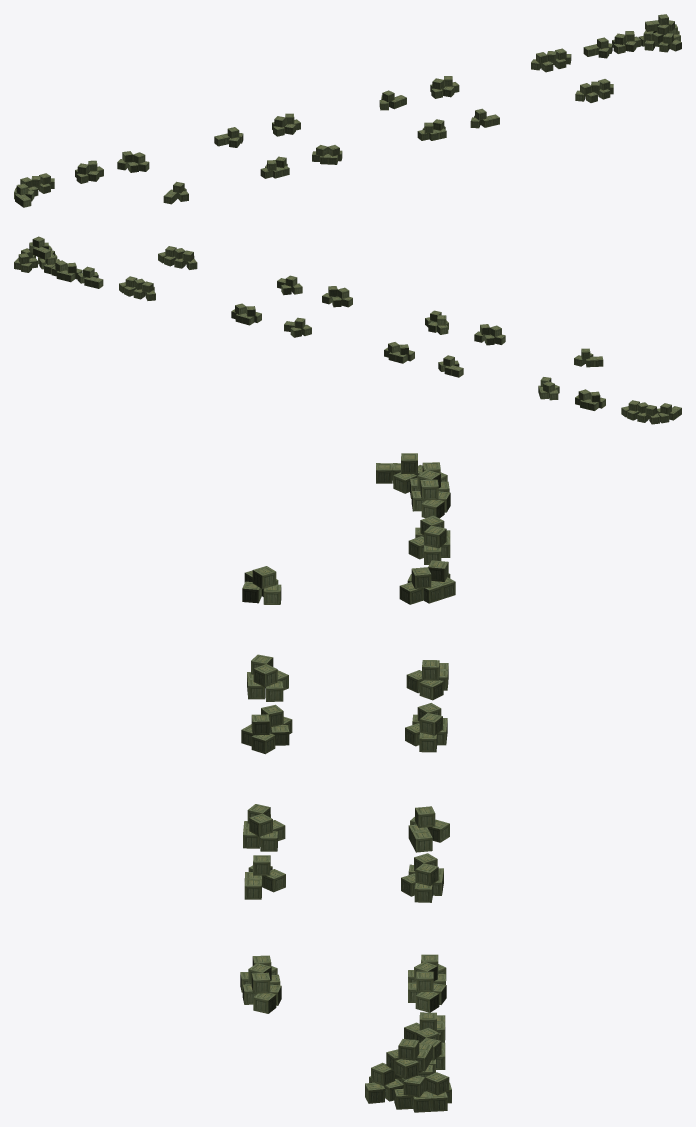
The model's file is wujian06.fbx.
3 views of the same model, one above another, from view 1: azimuth 30°, elevation 25°; view 2: azimuth 150°, elevation 25°; view 3: azimuth 270°, elevation 25° (orthographic). The views are drawn at different scales.
Parts seen in each view (by area): view 1: wujian06; view 2: wujian06; view 3: wujian06.
Part boxes in pixels (x1,y1,x2,y2): wujian06: (14,14,681,207); wujian06: (14,236,681,424); wujian06: (240,453,455,1112).
Size of the model in its own units: 10787 by 420 by 1545.
Materials: 1 (1 with a texture image).
